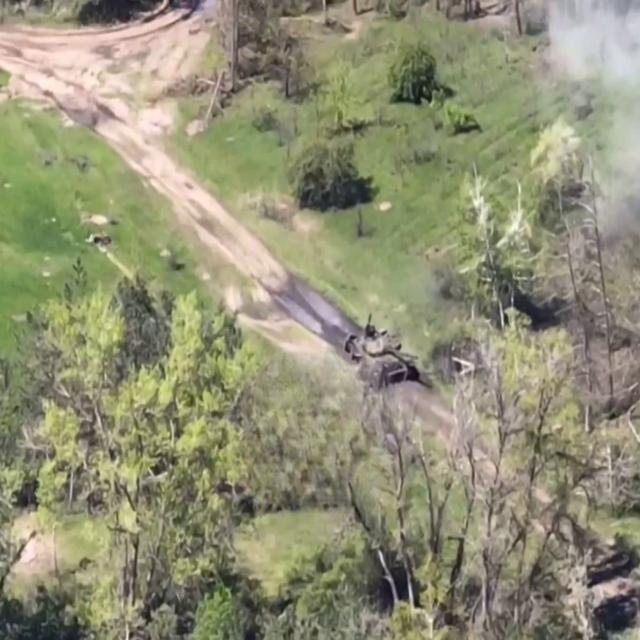MBT: (339, 315, 419, 390)
